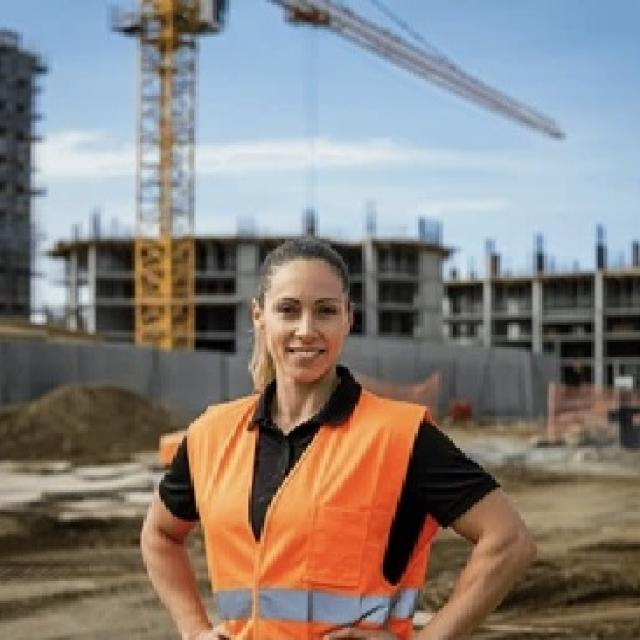no-gloves: (146, 495, 246, 639), (414, 552, 504, 640)
no-goggles: (261, 279, 359, 329)
no-helmet: (242, 230, 387, 394)
person: (139, 219, 542, 640)
vest: (187, 391, 434, 640)
